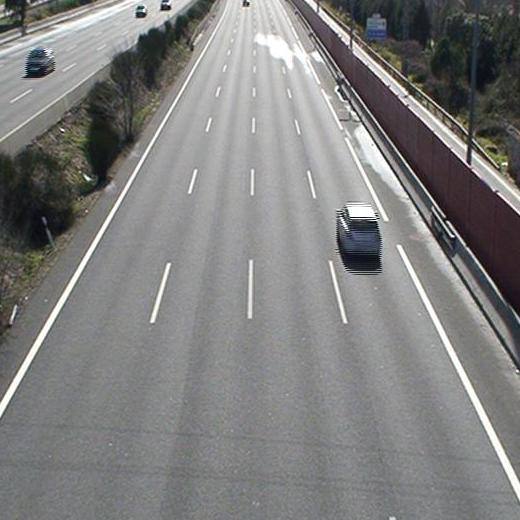car: (335, 201, 382, 262)
